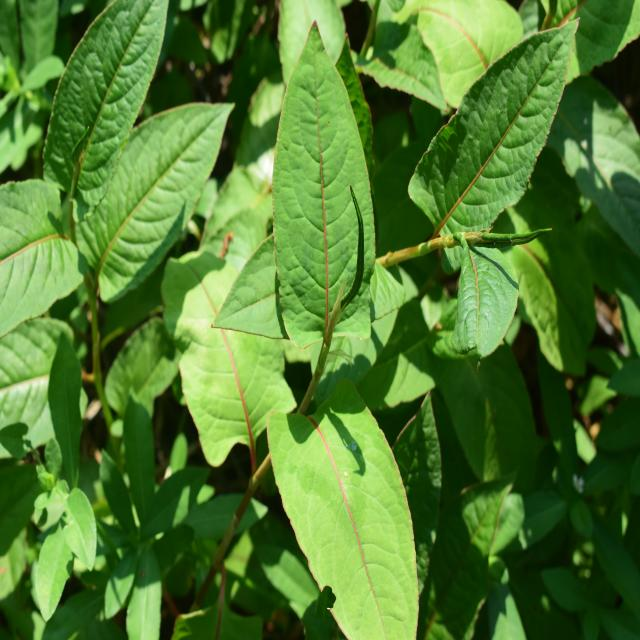Chinese_knotweed: (251, 40, 430, 617), (2, 0, 216, 341), (435, 16, 593, 380)
